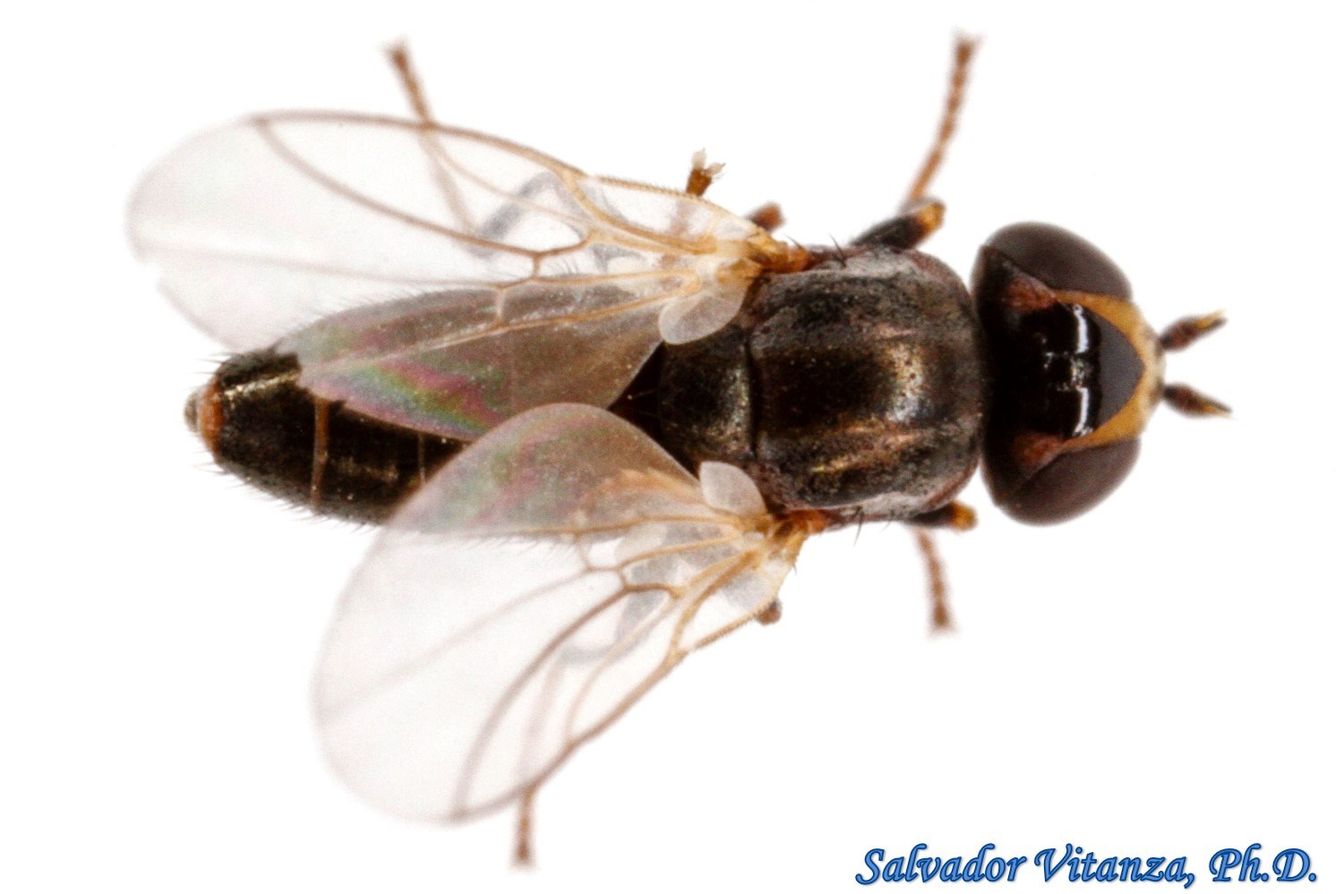Chloropidae: (130, 30, 1232, 856)
